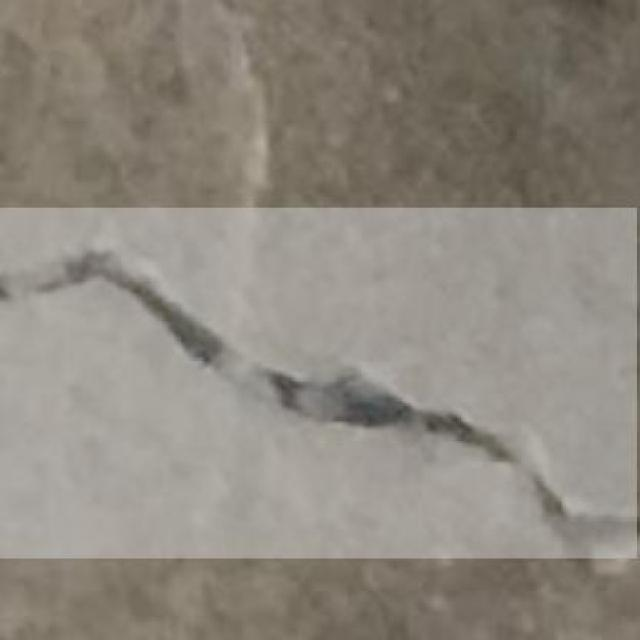Crack: (4, 206, 640, 554)
